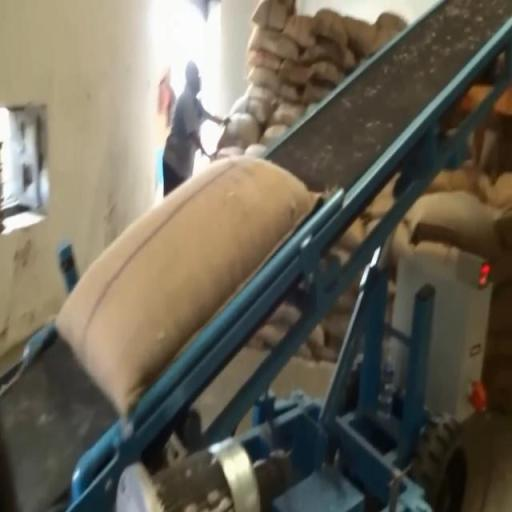c-belt-sack-count: (56, 157, 316, 415)
